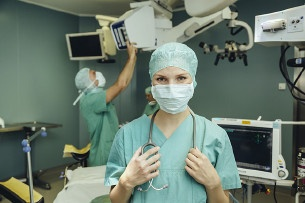Mask: (150, 69, 193, 111)
